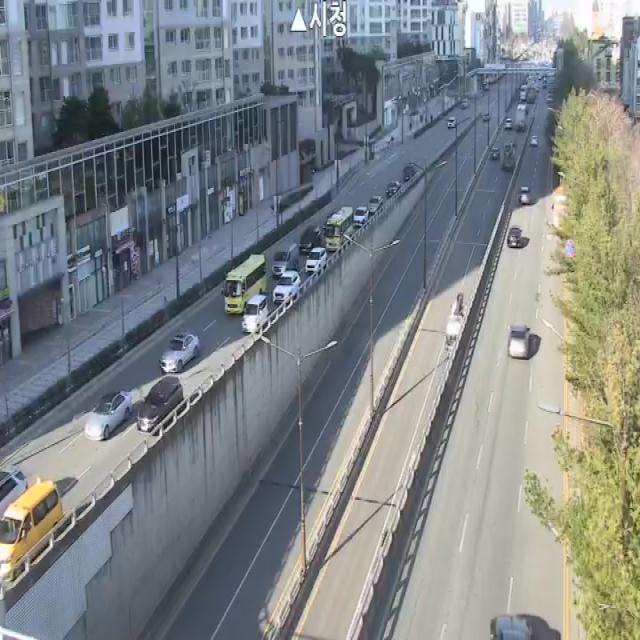Bus: (222, 254, 266, 316), (324, 206, 354, 253)
Car: (0, 480, 62, 586), (137, 376, 183, 437), (85, 391, 132, 442), (160, 331, 200, 373), (0, 467, 28, 521), (490, 613, 532, 640), (242, 294, 269, 334), (270, 243, 298, 279), (273, 270, 300, 306), (508, 324, 530, 358), (299, 224, 321, 254), (305, 247, 327, 274), (507, 225, 522, 248), (354, 206, 369, 228), (368, 195, 383, 216), (385, 181, 401, 199), (403, 166, 417, 182), (519, 186, 531, 204), (490, 148, 499, 159), (448, 117, 457, 128), (530, 135, 538, 146), (504, 118, 512, 129)
Truck: (444, 286, 470, 356), (503, 142, 515, 169), (516, 104, 527, 130)
